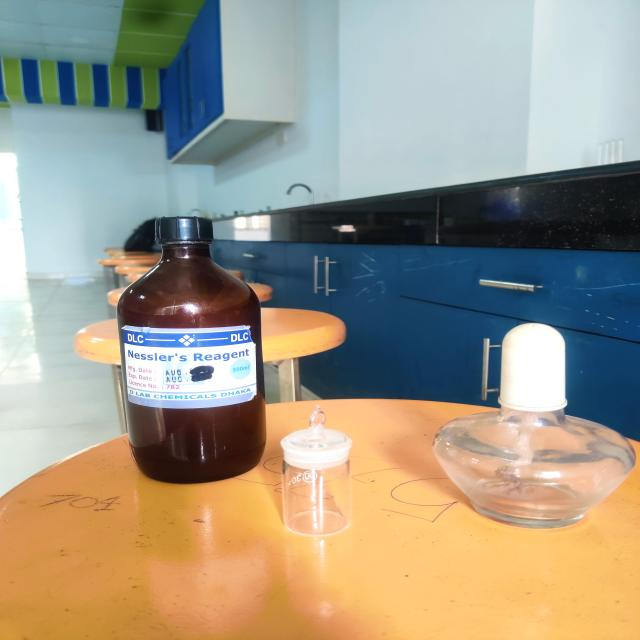Nessler_Reagent_Bottle: (102, 202, 284, 489)
Spirit_Lamp: (409, 312, 640, 541)
Weighing_Bottle: (271, 394, 369, 555)
